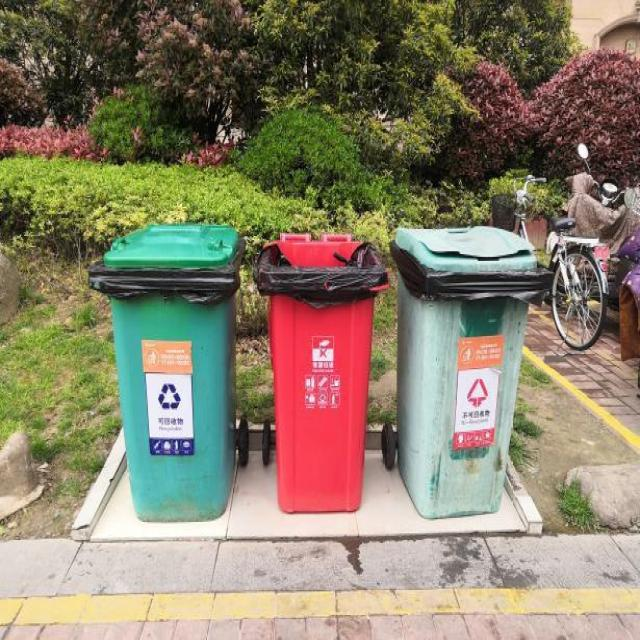garbage_bin: (389, 224, 553, 516), (86, 224, 245, 519), (253, 232, 388, 514)
